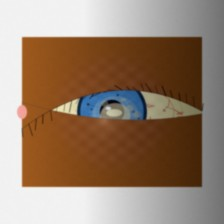corneal_ulcer: (91, 96, 140, 135)
